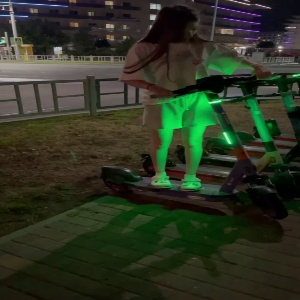human on a scooter: (96, 4, 289, 219)
